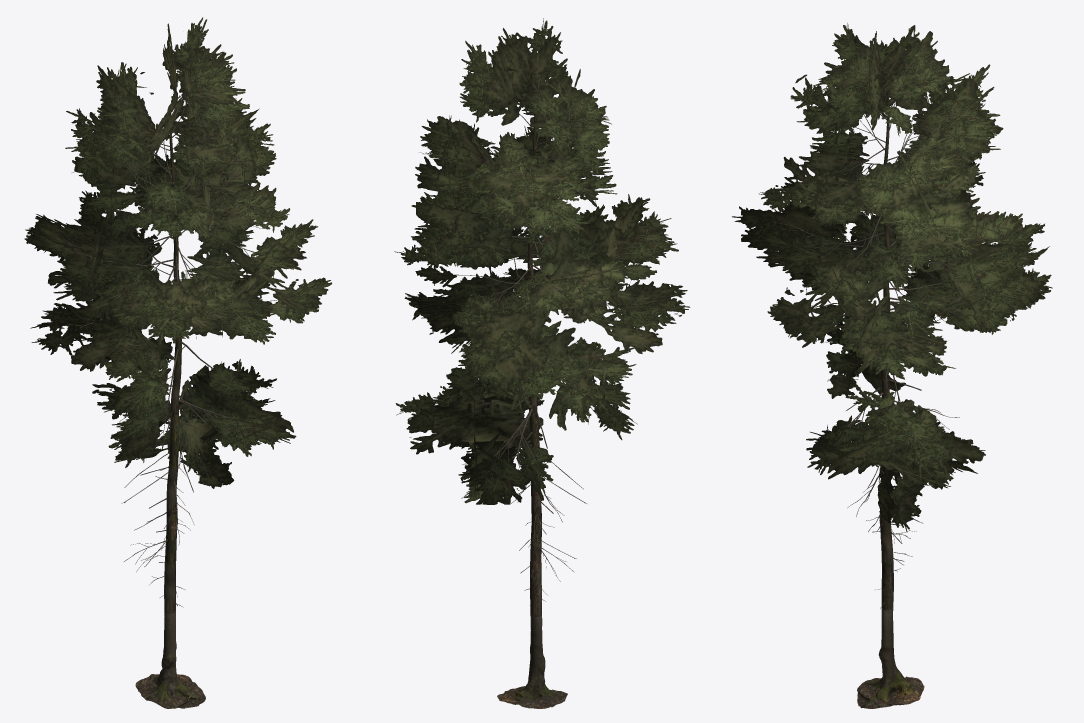
The model's file is tree.gltf.
3 views of the same model, side by side, from view 1: azimuth 30°, elevation 25°; view 2: azimuth 150°, elevation 25°; view 3: azimuth 270°, elevation 25° (orthographic). The views are drawn at different scales.
Visible parts, largest first — view 1: fir_b, fir_b_far; view 2: fir_b, fir_b_far; view 3: fir_b, fir_b_far.
Part boxes in pixels (x1,y1,x2,y2): fir_b: (24,17,332,708); fir_b_far: (29,23,327,485); fir_b: (394,18,690,708); fir_b_far: (401,28,687,504); fir_b: (732,23,1052,708); fir_b_far: (741,25,1049,523).
Bounding box in the file's own units: 5.94 × 14.06 × 6.37.
4 materials, 4 textured.
